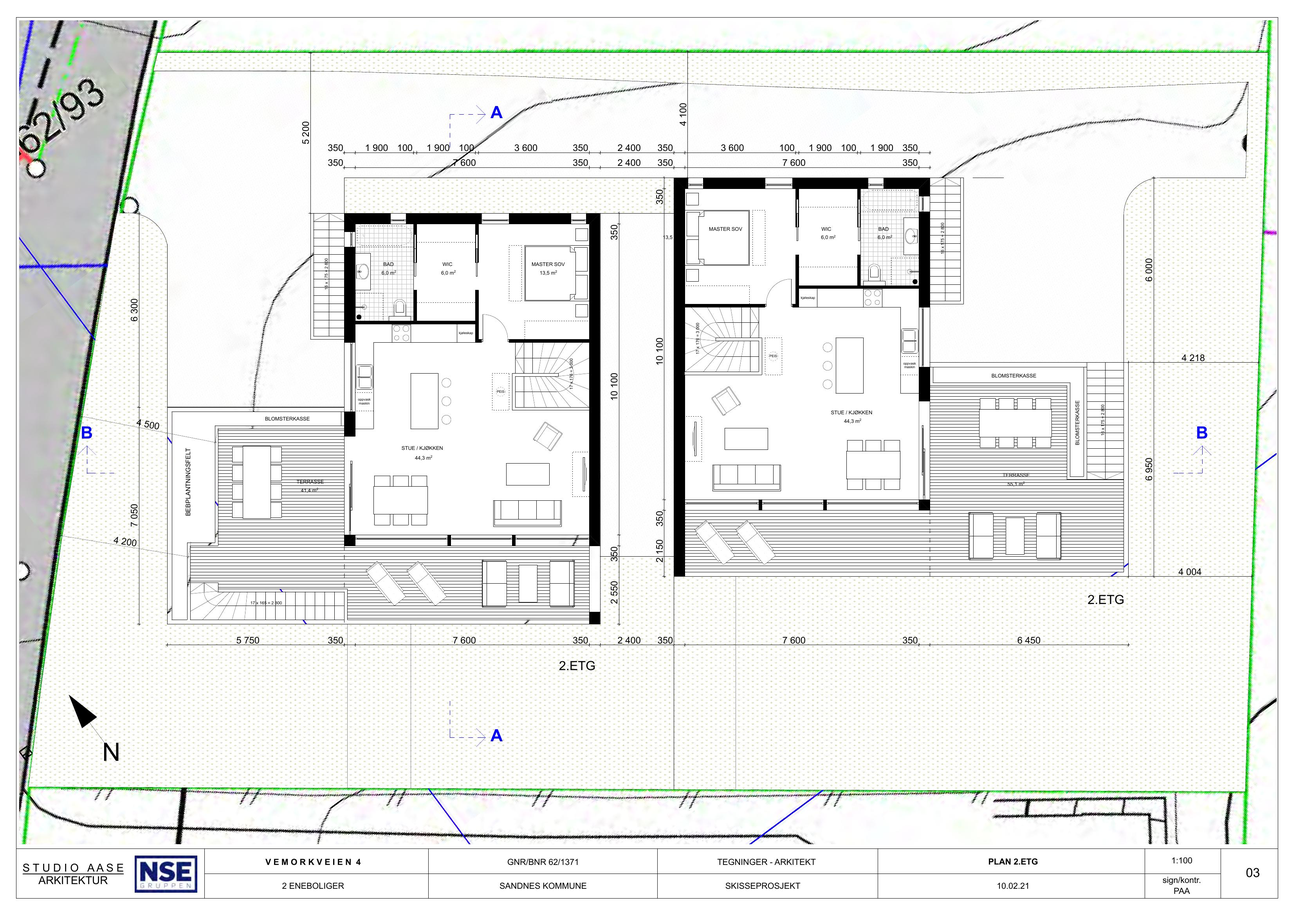plantegning: (673, 174, 1130, 582), (166, 206, 604, 631)
